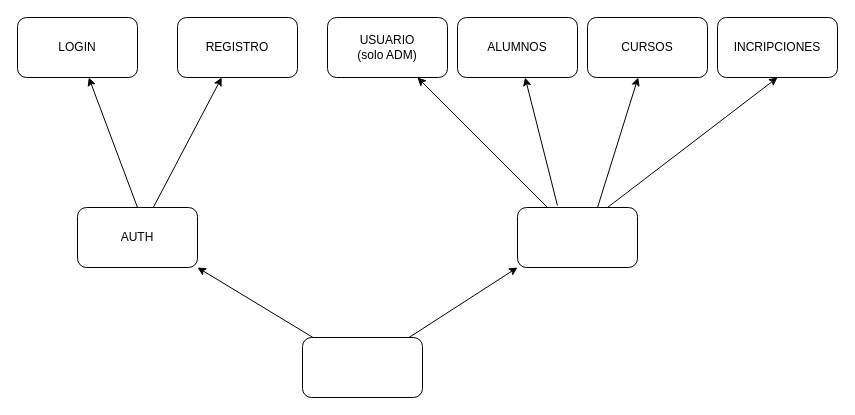
Some shapes in this 855 by 415 pixel diagram are drawn without their labels. The centre of each missing label's shape, as x and y in pixels:
APP.MODULE: (x=362, y=367)
DASHBOARD (PANEL ADMINISTRATIVO): (x=577, y=237)
